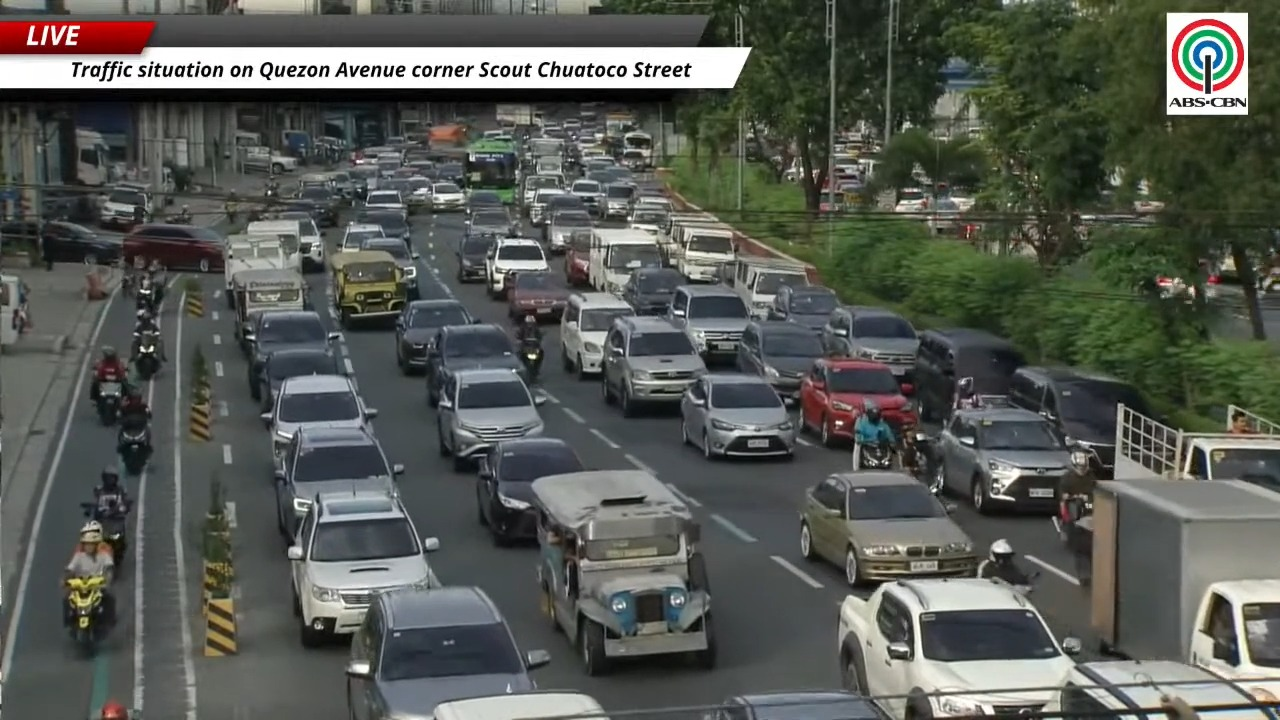bus: (465, 139, 519, 203)
car: (835, 578, 1081, 717), (346, 586, 549, 719), (287, 490, 438, 646), (800, 471, 977, 586), (1008, 366, 1155, 479), (274, 425, 403, 540), (933, 408, 1071, 513), (476, 437, 586, 545), (437, 368, 544, 471), (261, 374, 376, 469), (911, 328, 1026, 420), (601, 316, 705, 416), (799, 358, 917, 446), (680, 374, 796, 458), (242, 310, 339, 400), (425, 324, 525, 406), (820, 306, 918, 380), (736, 321, 823, 402), (666, 284, 749, 362), (561, 293, 636, 378), (395, 298, 473, 374), (260, 347, 344, 411), (0, 220, 121, 264), (122, 223, 225, 272), (714, 690, 888, 719), (433, 691, 606, 719), (486, 238, 549, 299), (360, 238, 419, 300), (767, 285, 838, 332), (620, 268, 685, 315), (507, 272, 569, 321), (277, 212, 324, 271), (456, 228, 504, 282), (99, 186, 153, 229), (544, 208, 593, 253), (355, 208, 411, 242), (563, 228, 594, 287), (264, 198, 328, 224), (627, 197, 669, 235), (298, 187, 338, 226), (522, 174, 560, 214), (528, 186, 566, 226), (544, 193, 590, 225), (335, 223, 387, 251), (466, 208, 518, 235), (924, 197, 961, 234), (600, 182, 636, 219), (569, 180, 603, 214), (405, 168, 431, 212), (429, 182, 466, 211), (433, 162, 466, 194), (466, 190, 505, 216), (894, 187, 929, 214), (364, 190, 406, 211), (634, 193, 673, 215), (585, 169, 614, 188)
motorcycle: (81, 498, 128, 575), (1053, 496, 1092, 585), (66, 575, 105, 656), (118, 426, 152, 477), (901, 428, 931, 481), (852, 441, 900, 470), (134, 333, 161, 381), (96, 380, 122, 425), (520, 341, 543, 384), (135, 276, 159, 314), (1258, 268, 1279, 294)
truck: (1090, 477, 1279, 695), (836, 578, 1080, 717), (1114, 404, 1279, 489), (224, 233, 300, 305), (238, 146, 298, 174), (495, 103, 541, 128), (606, 112, 637, 139)
